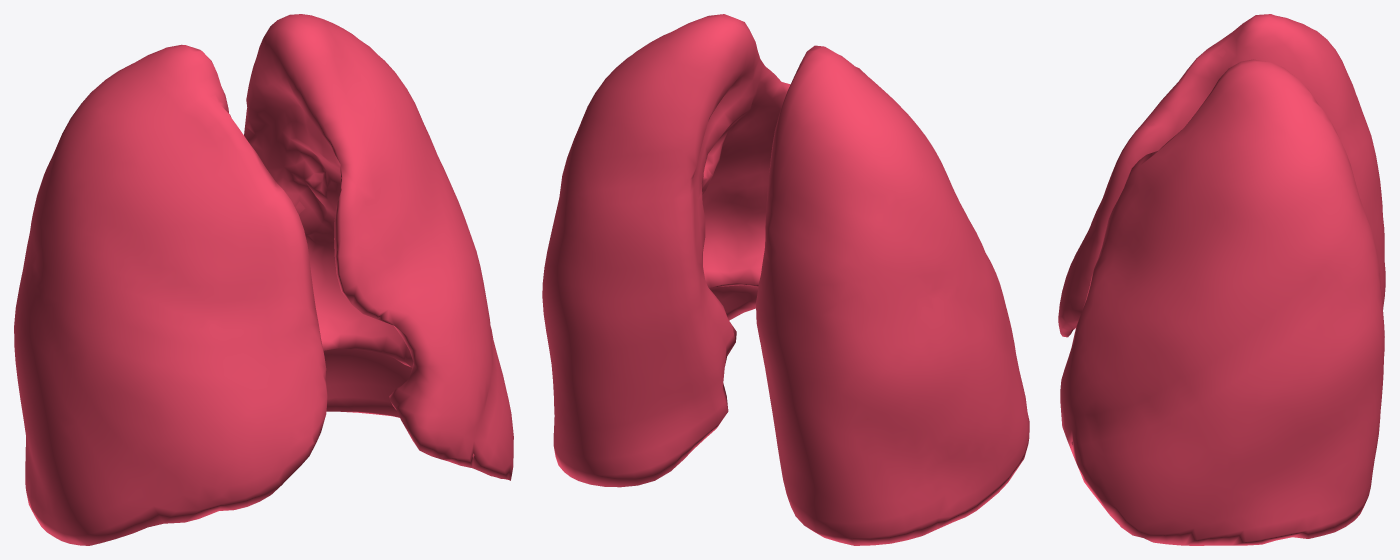
Rendered from lungs.glb.
3 renders of one model, left to right at view 1: azimuth 30°, elevation 25°; view 2: azimuth 150°, elevation 25°; view 3: azimuth 270°, elevation 25°, orthographic. The views are drawn at different scales.
Parts seen in each view (by area): view 1: Pleura; view 2: Pleura; view 3: Pleura.
Boxes of the visible parts, x1,y1,x2,y2 form: Pleura: (14,14,513,545); Pleura: (542,14,1029,545); Pleura: (1058,14,1385,545).
Size of the model in its own units: 0.2863 by 0.2867 by 0.2044.
